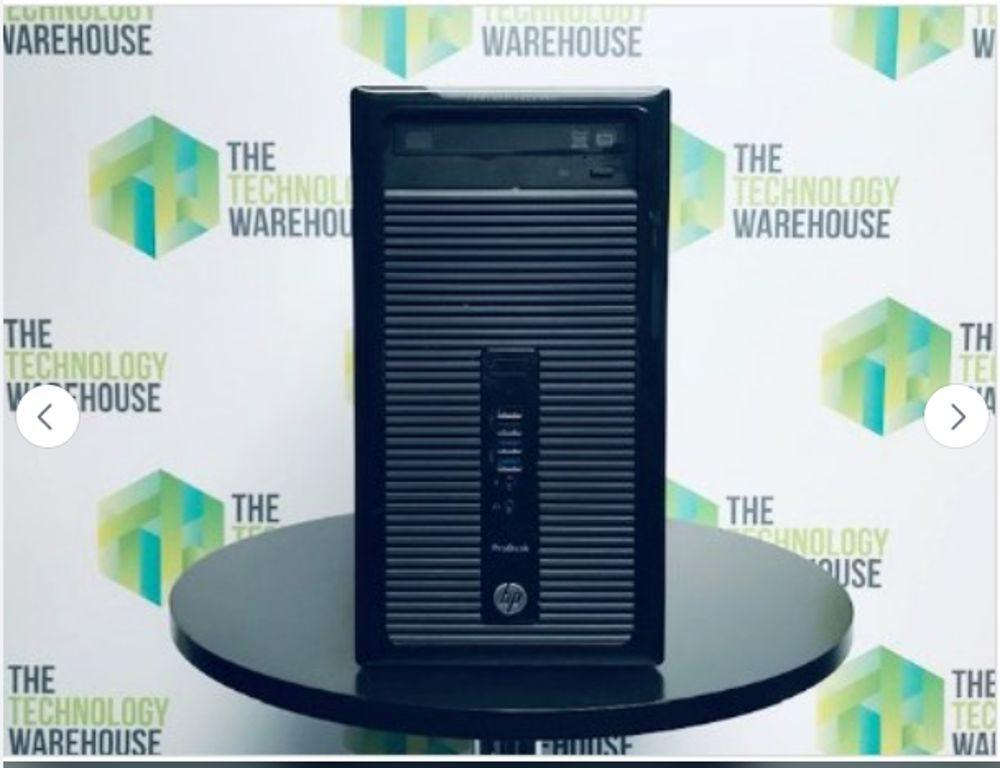DESKTOP PC: (346, 82, 673, 670)
